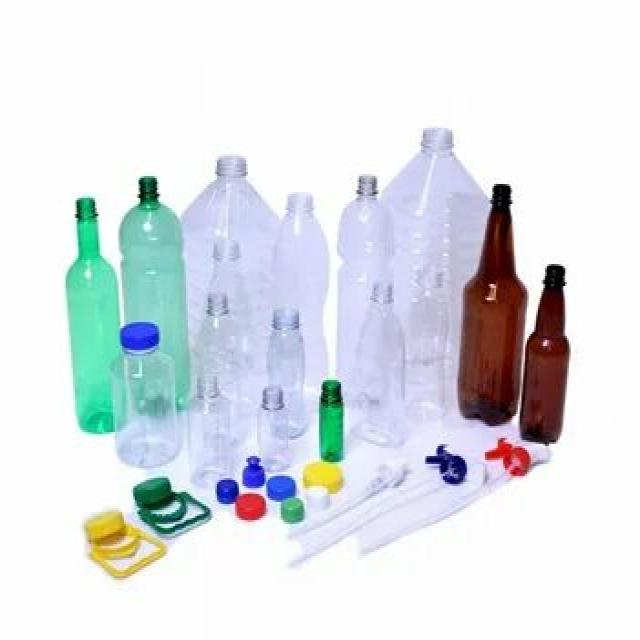brown: (459, 185, 526, 425), (520, 262, 570, 446)
green: (62, 197, 120, 433), (117, 175, 185, 322), (318, 382, 345, 462)
